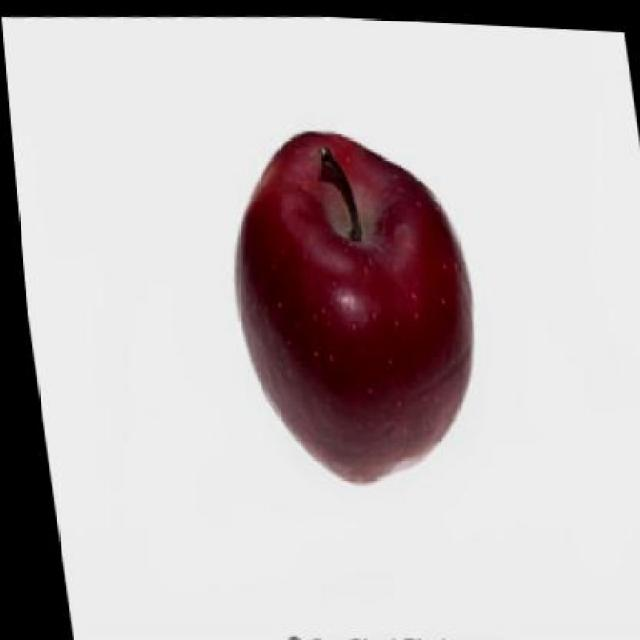Fresh Apple: (236, 137, 487, 489)
